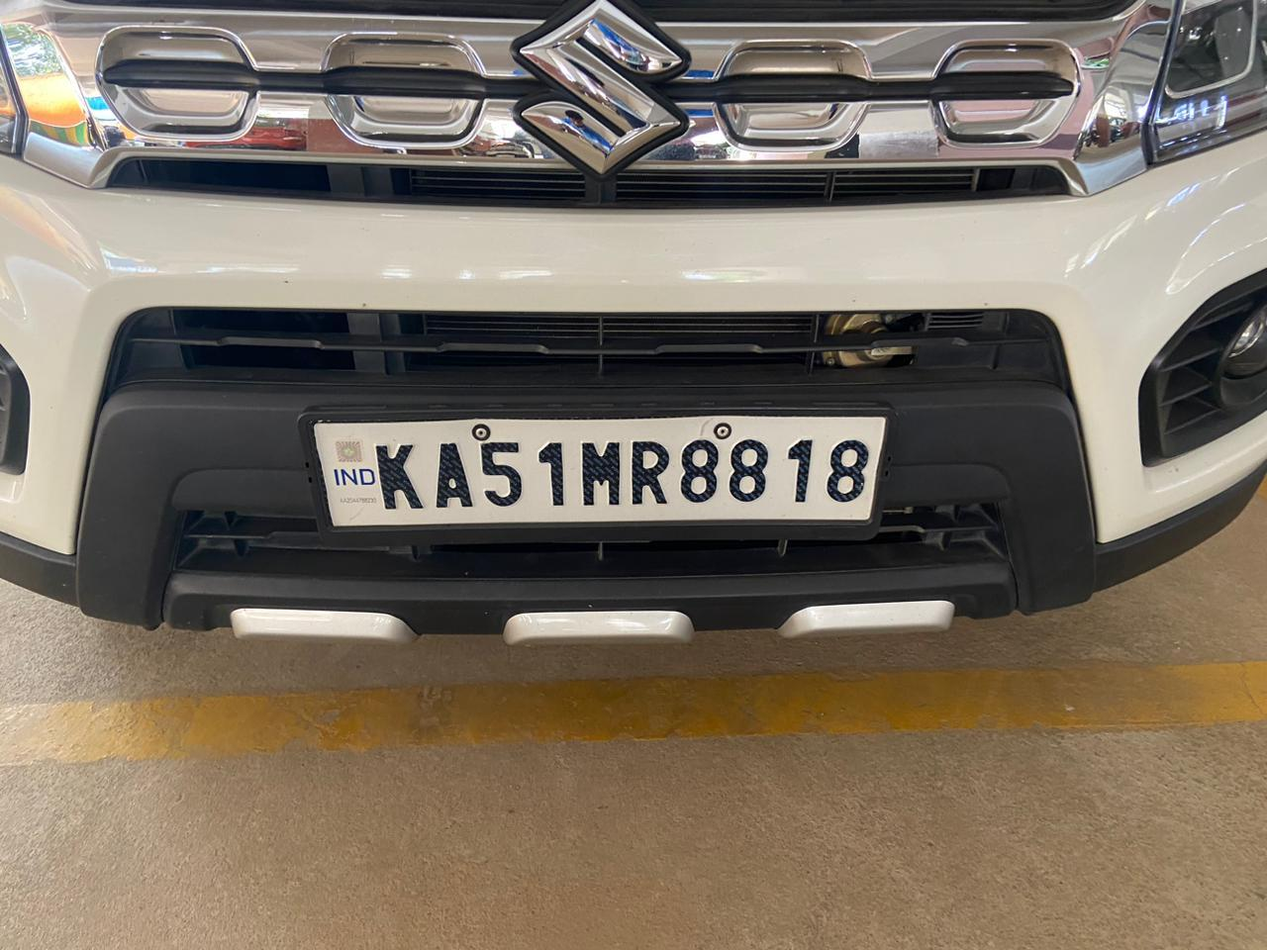1: (531, 442, 574, 524), (788, 432, 820, 513)
5: (478, 432, 536, 513)
8: (824, 426, 874, 521), (727, 434, 777, 504), (677, 434, 723, 505)
A: (430, 442, 475, 523)
K: (369, 434, 427, 518)
M: (576, 434, 630, 512)
R: (622, 434, 672, 515)
